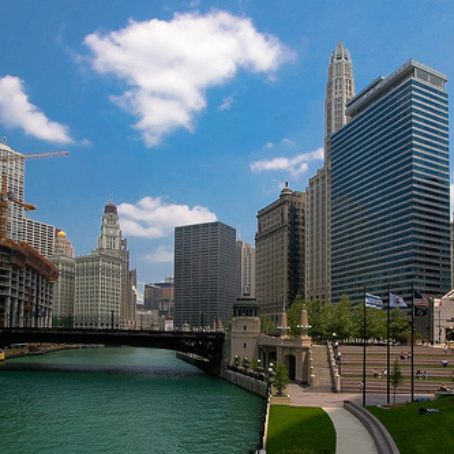bridge: (1, 320, 221, 375)
building: (335, 70, 447, 308), (167, 219, 240, 326), (254, 186, 306, 311), (9, 220, 67, 331), (299, 170, 334, 306), (70, 252, 121, 340), (323, 41, 360, 140), (1, 148, 33, 225), (135, 273, 176, 330), (100, 200, 134, 265), (236, 239, 259, 290)
grass: (360, 399, 454, 454), (267, 404, 326, 454)
river: (1, 378, 265, 454)
sky: (1, 2, 454, 222)
